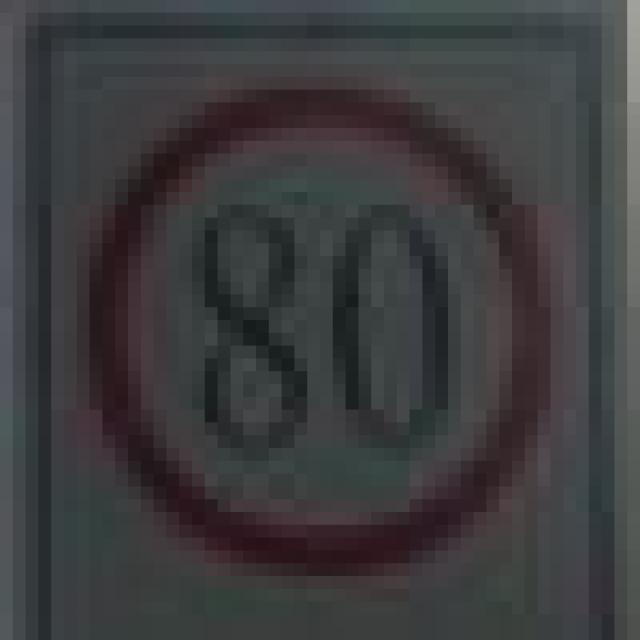SPEED_LIMIT_80: (76, 77, 538, 550)
